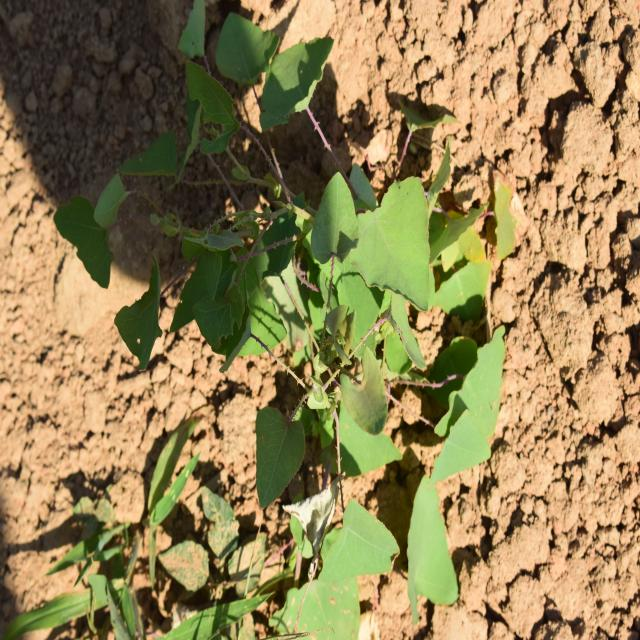Asiatic_Smartweed: (176, 130, 432, 466), (69, 42, 280, 390), (379, 322, 510, 612)
